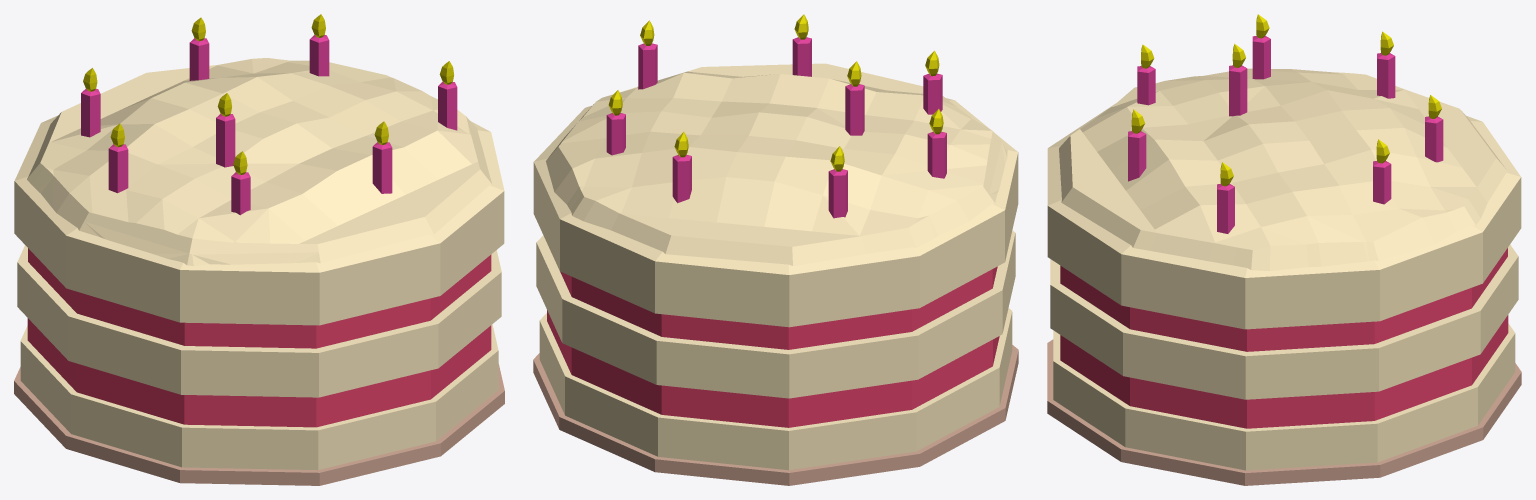
The model's file is Cake.glb.
3 renders of one model, left to right at view 1: azimuth 30°, elevation 25°; view 2: azimuth 150°, elevation 25°; view 3: azimuth 270°, elevation 25°, orthographic. The views are drawn at different scales.
Visible parts, largest first — view 1: Cake; view 2: Cake; view 3: Cake.
Boxes of the visible parts, x1=… form: Cake: x1=14, y1=14, x2=504, y2=485; Cake: x1=533, y1=14, x2=1018, y2=485; Cake: x1=1047, y1=14, x2=1521, y2=485.
Bounding box in the file's own units: 1.98 × 1.43 × 1.96.
1 material, 1 textured.
